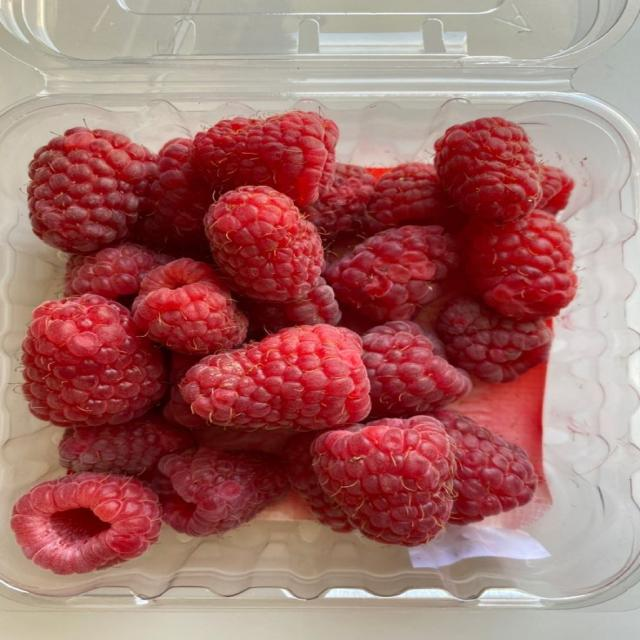raspberry: (180, 325, 370, 430), (22, 294, 165, 426), (313, 416, 454, 546), (28, 128, 156, 253), (11, 473, 160, 574), (192, 111, 339, 206), (205, 186, 323, 302), (326, 226, 458, 320), (466, 211, 577, 319), (434, 410, 537, 524), (159, 447, 288, 536), (434, 117, 541, 223), (133, 258, 247, 354), (363, 321, 471, 417), (436, 297, 552, 382), (134, 139, 213, 256), (60, 414, 194, 475), (283, 433, 353, 532), (365, 162, 455, 232), (65, 243, 173, 298), (242, 278, 341, 334), (301, 164, 375, 238), (163, 352, 206, 429), (194, 425, 299, 454), (369, 321, 446, 358), (538, 165, 574, 213)
